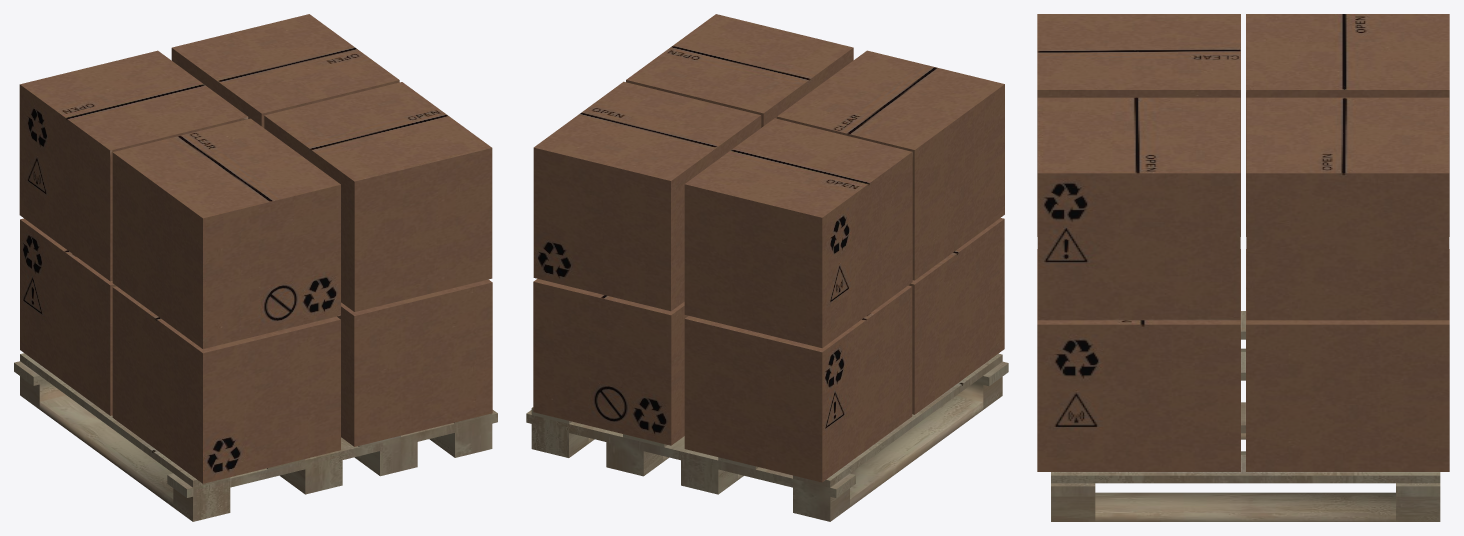
3 views of the same model, side by side, from view 1: azimuth 30°, elevation 25°; view 2: azimuth 150°, elevation 25°; view 3: azimuth 270°, elevation 25° (orthographic). The views are drawn at different scales.
Visible parts, largest first — view 1: Плоскость.002; view 2: Плоскость.002; view 3: Плоскость.002.
Boxes of the visible parts, <box> form: Плоскость.002: <box>14,14,497,521</box>; Плоскость.002: <box>526,14,1008,521</box>; Плоскость.002: <box>1037,14,1449,521</box>.
Bounding box in the file's own units: 7.66 × 7.23 × 7.81.
Materials: 1 (1 with a texture image).
